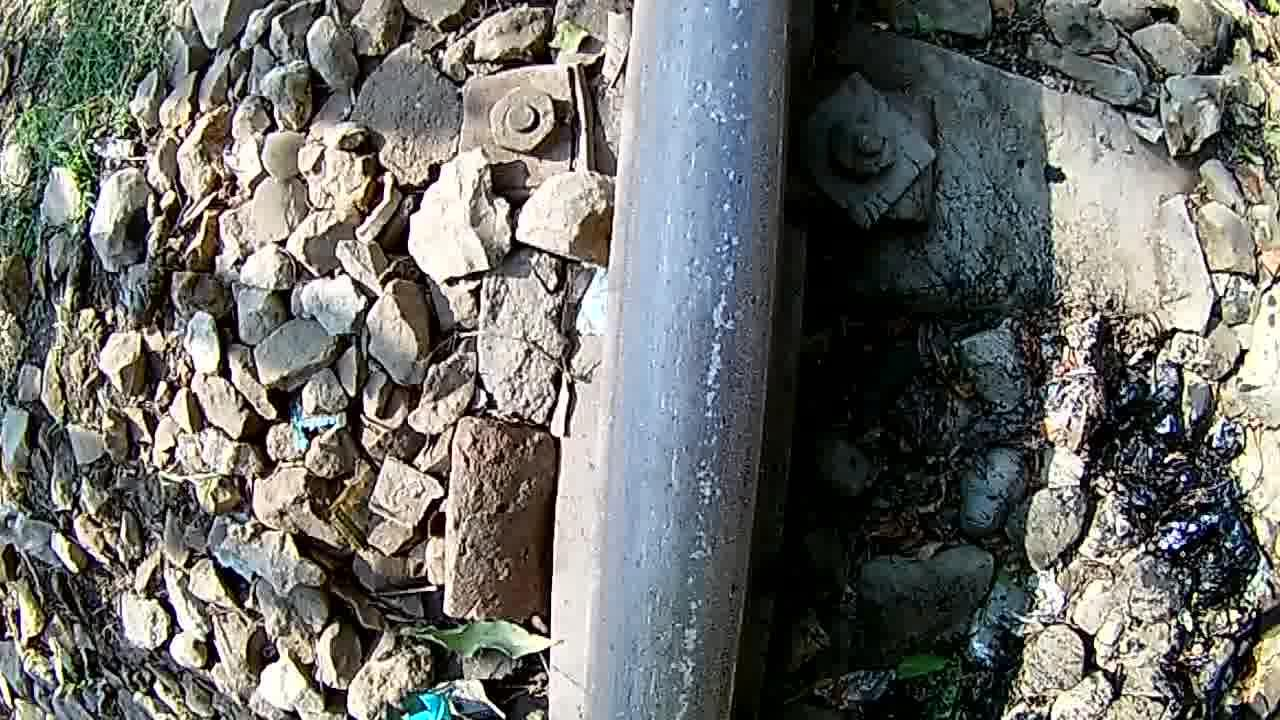clip_missing: (594, 1, 800, 720)
